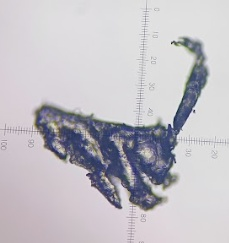microplastic: (33, 104, 179, 213), (168, 34, 210, 137)
